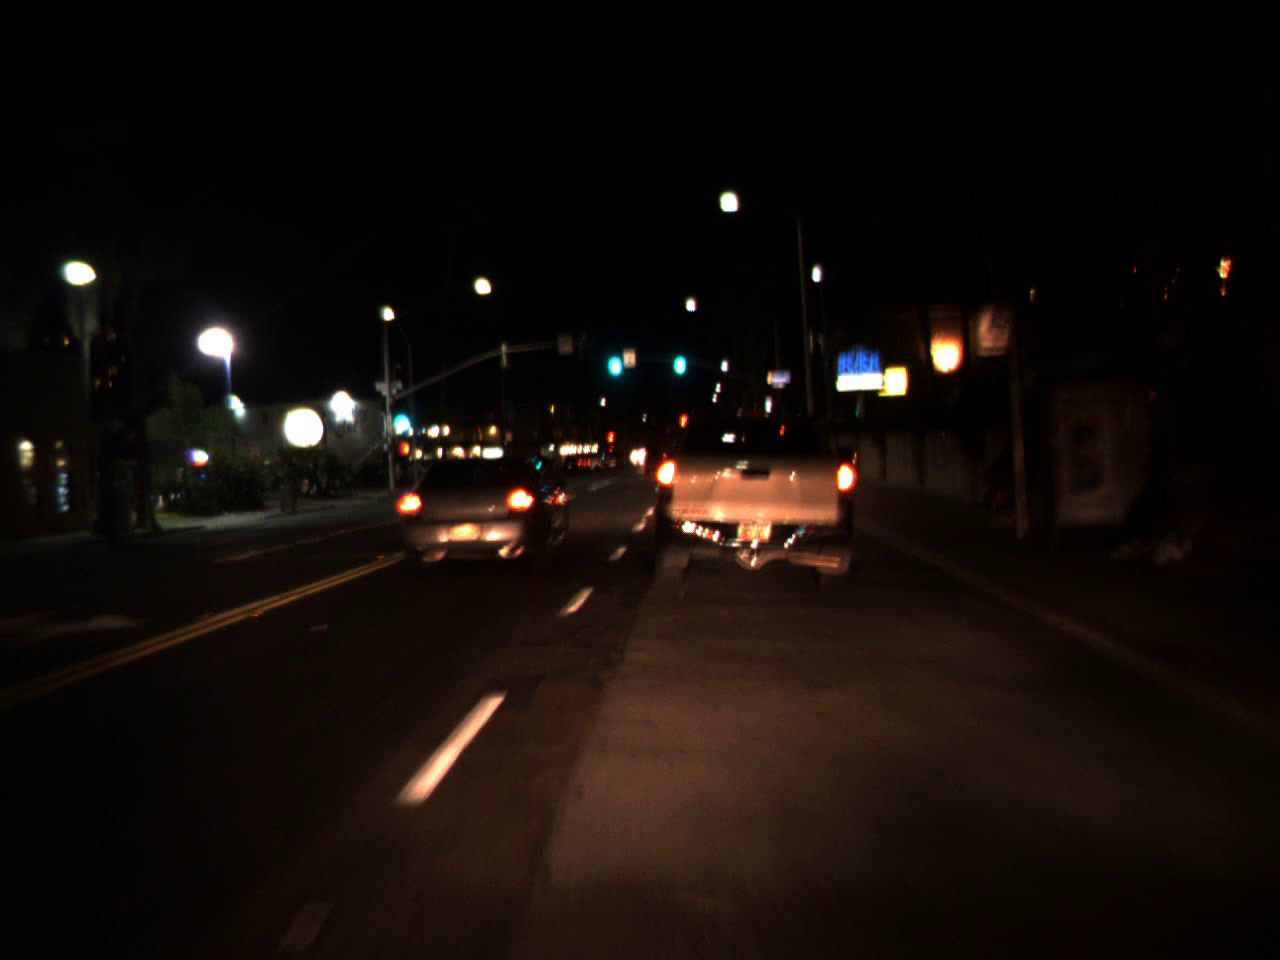go: (386, 386, 414, 443), (601, 332, 626, 383), (668, 331, 689, 382)
